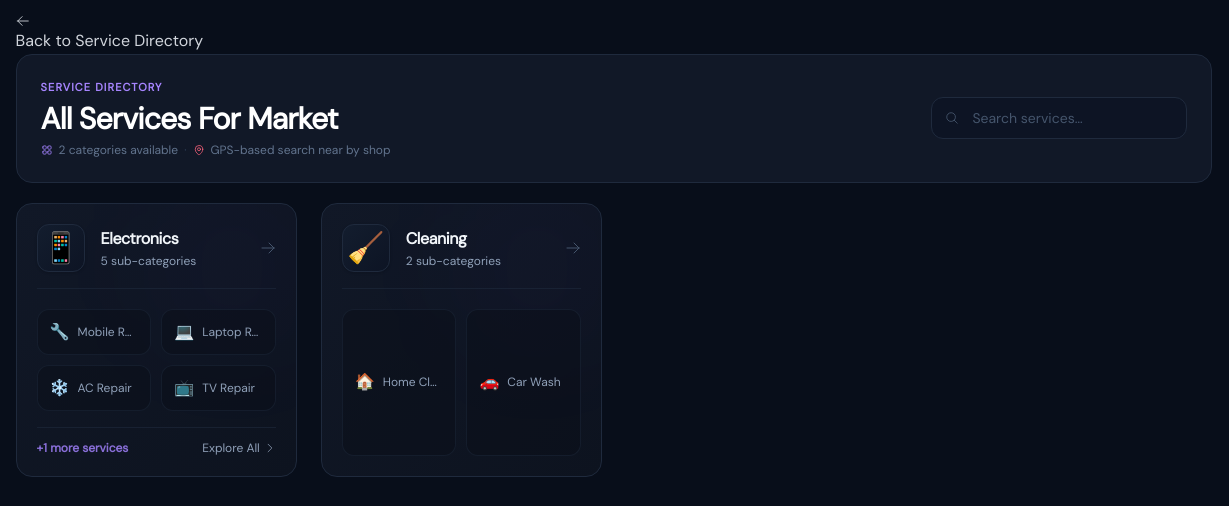
Test: AllServices Page › shows empty state when no results match search
The image size is (1229, 506).
Type "NonExistent" into the field with placeholder "Search services…". click: coordinates (1059, 118)
box: [931,97,1187,139]
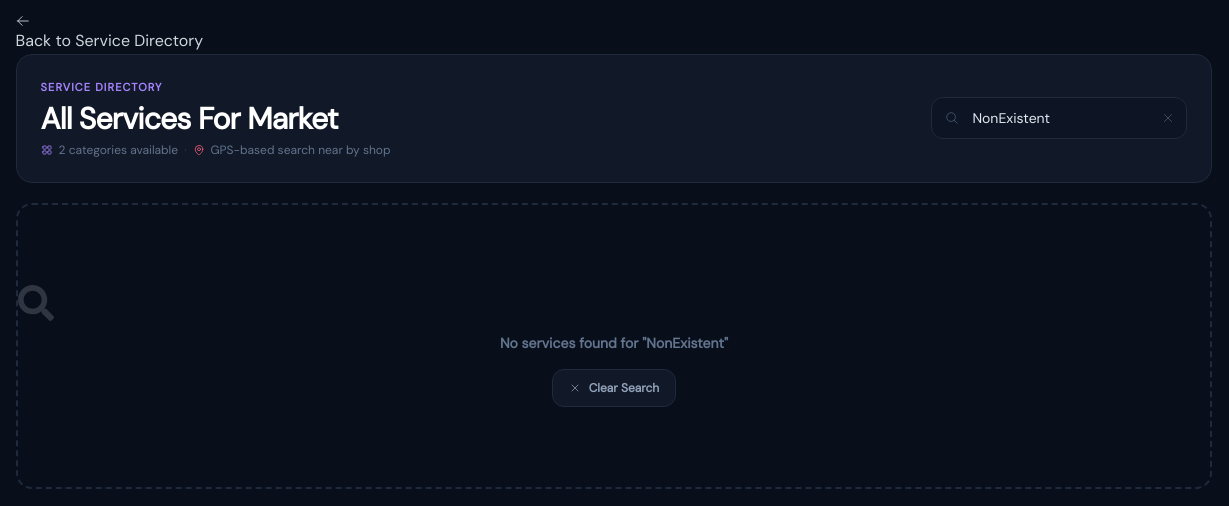
Now the text "No services found for \"NonExistent\"" is shown, box [500,334,728,352]
Now the button "Clear Search" is shown, box [552,369,676,407]
